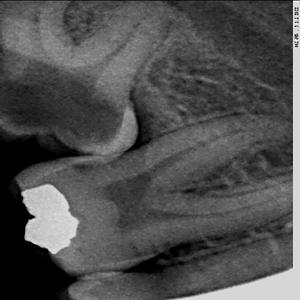tooth: (15, 116, 280, 270), (0, 0, 167, 157)
